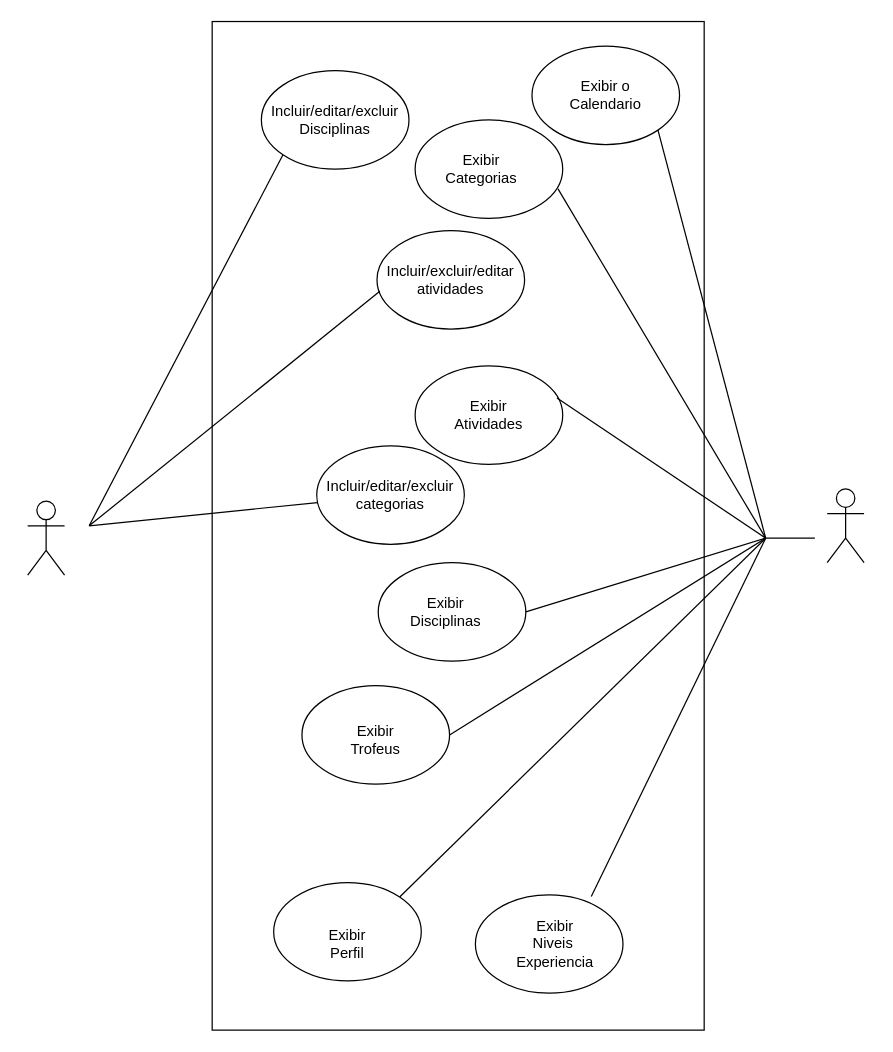
Image size: 893x1052. Some labels were removed from this diagram. Here are the shapes that lost their labels. From the top down, the centre of each, then its label:
point (45, 537): Usuario
point (845, 525): Sistema
